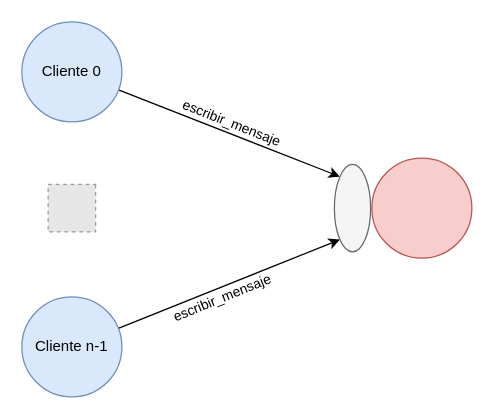
This 494x419 diagram has some shape labels left out. Grey dashed boxes stand in for pictures. The box of each missing label's shape, as (x1, y1, x2, y2) in pixels:
Ejemplo: (371, 157, 472, 258)
Ejemplo_I: (333, 163, 371, 252)
